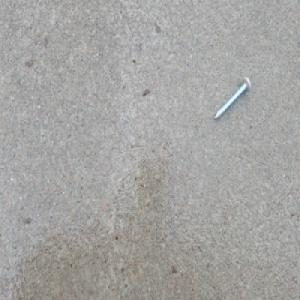Nail: (213, 74, 251, 123)
